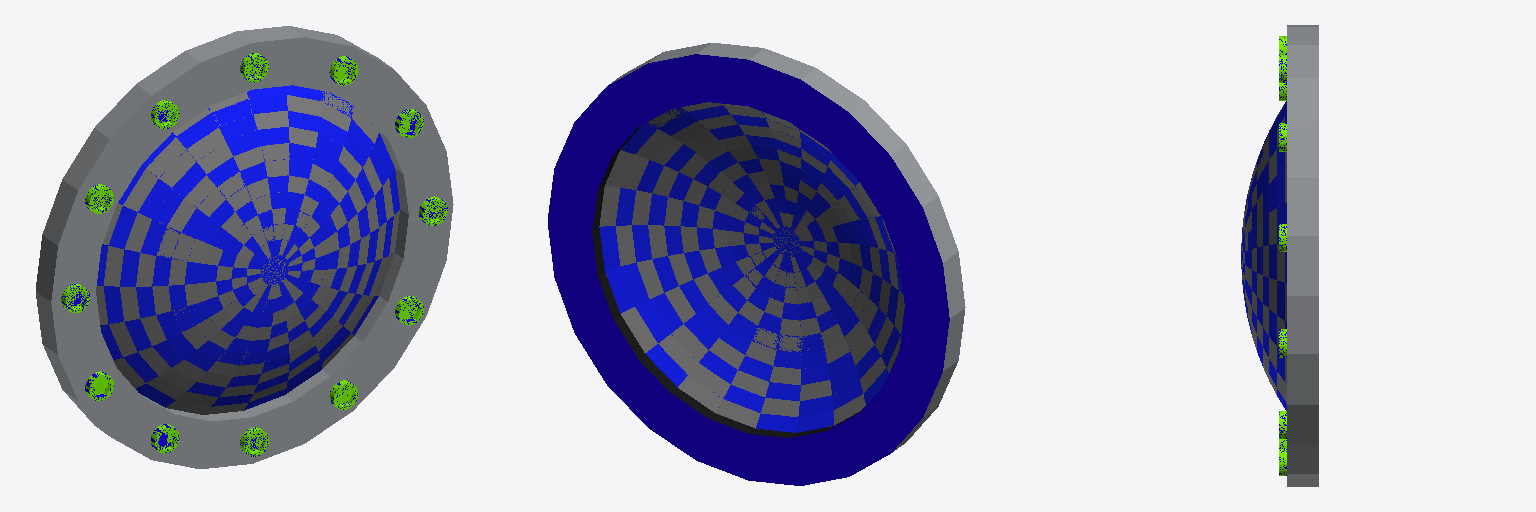
The model's file is portal_2.obj.
The picture shows the model from 3 angles: view 1: azimuth 30°, elevation 25°; view 2: azimuth 150°, elevation 25°; view 3: azimuth 270°, elevation 25°; orthographic projection.
Visible parts, largest first — view 1: Mesh13 Component_3_1 Model, Mesh5 Component_2_5 Component_3_1 Model, Mesh8 Component_2_8 Component_3_1 Model, Mesh11 Component_2_11 Component_3_1 Model, Mesh4 Component_2_4 Component_3_1 Model, Mesh7 Component_2_7 Component_3_1 Model, Mesh3 Component_2_3 Component_3_1 Model, Mesh1 Component_2_1 Component_3_1 Model, Mesh12 Component_2_12 Component_3_1 Model, Mesh9 Component_2_9 Component_3_1 Model, Mesh10 Component_2_10 Component_3_1 Model, Mesh2 Component_2_2 Component_3_1 Model (+1 smaller); view 2: Mesh13 Component_3_1 Model; view 3: Mesh13 Component_3_1 Model.
Boxes of the visible parts, x1,y1,x2,y2 form: Mesh13 Component_3_1 Model: [36, 26, 453, 468]; Mesh5 Component_2_5 Component_3_1 Model: [240, 53, 268, 82]; Mesh8 Component_2_8 Component_3_1 Model: [240, 427, 268, 456]; Mesh11 Component_2_11 Component_3_1 Model: [395, 296, 423, 325]; Mesh4 Component_2_4 Component_3_1 Model: [85, 184, 113, 213]; Mesh7 Component_2_7 Component_3_1 Model: [151, 424, 179, 453]; Mesh3 Component_2_3 Component_3_1 Model: [419, 196, 447, 225]; Mesh1 Component_2_1 Component_3_1 Model: [395, 109, 423, 137]; Mesh12 Component_2_12 Component_3_1 Model: [329, 56, 358, 85]; Mesh9 Component_2_9 Component_3_1 Model: [85, 371, 113, 400]; Mesh10 Component_2_10 Component_3_1 Model: [61, 284, 89, 312]; Mesh2 Component_2_2 Component_3_1 Model: [151, 100, 179, 129]; Mesh13 Component_3_1 Model: [548, 43, 965, 485]; Mesh13 Component_3_1 Model: [1241, 25, 1318, 486].
Bounding box in the file's own units: 0.2572 × 0.2572 × 0.0429.